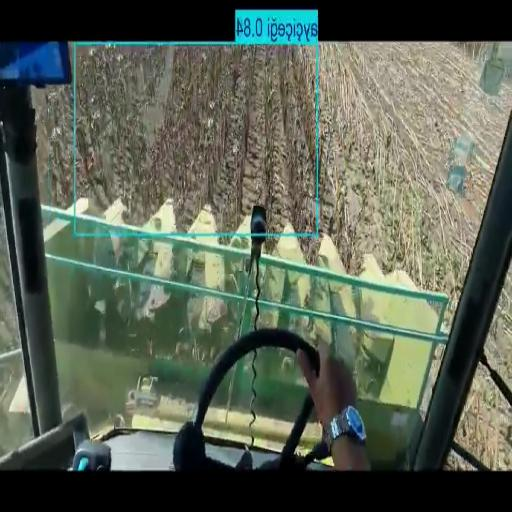ayc: (34, 45, 316, 230), (75, 46, 315, 231), (92, 48, 316, 231), (45, 88, 72, 207)
